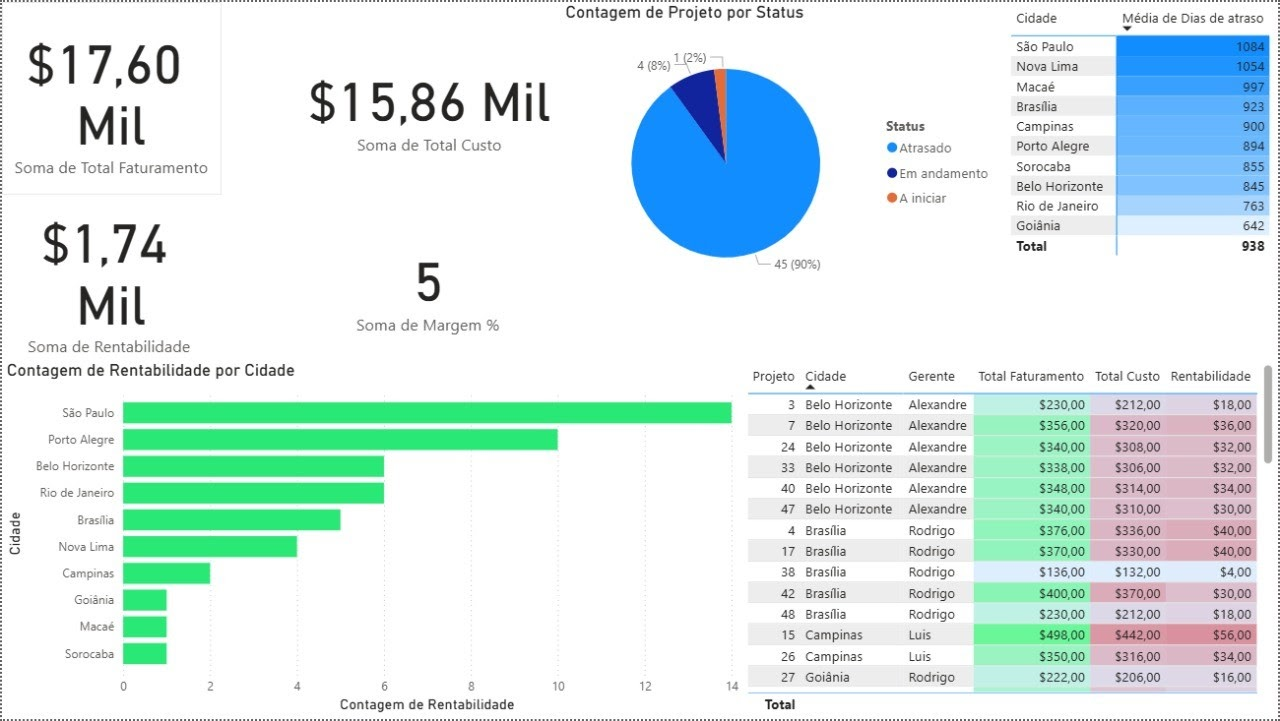

What the dashboard file says about the page in this screenshot:
{"tool":"powerbi","page":{"name":"Visão Geral","canvas":[1280,720],"ordinal":0},"visuals":[{"type":"card","fields":{"Values":["Sum(Cronograma.Total Faturamento)"]},"box":[0,0,219.6,193.6],"z":0},{"type":"card","fields":{"Values":["Sum(Cronograma.Total Custo)"]},"box":[293.3,7.2,270.2,193.6],"z":1000},{"type":"card","fields":{"Values":["Min(Cronograma.Margem %)"]},"box":[781.1,440.4,359.2,279.4],"z":2000},{"type":"card","fields":{"Values":["Sum(Cronograma.Rentabilidade )"]},"box":[0,193.9,219.5,166.8],"z":3000},{"type":"clusteredBarChart","fields":{"Category":["Cronograma.Cidade"],"Y":["CountNonNull(Cronograma.Rentabilidade )"]},"box":[0,359.7,744,359.7],"z":4000},{"type":"pieChart","fields":{"Category":["Cronograma.Status"],"Y":["CountNonNull(Cronograma.Projeto)"]},"box":[560.5,0,443.5,304.8],"z":5000},{"type":"tableEx","fields":{"Values":["Cronograma.Projeto","Cronograma.Cidade","Cronograma.Gerente","Cronograma.Total Faturamento","Cronograma.Total Custo","Cronograma.Rentabilidade "]},"box":[742.6,359.7,537.4,359.7],"z":6000},{"type":"pivotTable","fields":{"Values":["Avg(Cronograma.Dias de atraso)"],"Rows":["Cronograma.Cidade"]},"box":[1007,0,273,262.9],"z":7000},{"type":"card","fields":{"Values":["Sum(Cronograma.Margem %)"]},"box":[293.3,200.8,267.3,167.6],"z":8000}]}

Visuals, with their boxes in screenshot pixels (x1, y1, x2, y2), scaled from the page's 1280x720 canvas onto the 1280x721 screenshot:
card - Sum(Cronograma.Total Faturamento): BBox(0, 0, 220, 194)
card - Sum(Cronograma.Total Custo): BBox(293, 7, 564, 201)
card - Min(Cronograma.Margem %): BBox(781, 441, 1140, 720)
card - Sum(Cronograma.Rentabilidade ): BBox(0, 194, 220, 361)
clusteredBarChart - Cronograma.Cidade x CountNonNull(Cronograma.Rentabilidade ): BBox(0, 360, 744, 720)
pieChart - Cronograma.Status x CountNonNull(Cronograma.Projeto): BBox(560, 0, 1004, 305)
tableEx - Cronograma.Projeto x Cronograma.Cidade: BBox(743, 360, 1279, 720)
pivotTable - Avg(Cronograma.Dias de atraso) x Cronograma.Cidade: BBox(1007, 0, 1279, 263)
card - Sum(Cronograma.Margem %): BBox(293, 201, 561, 369)
